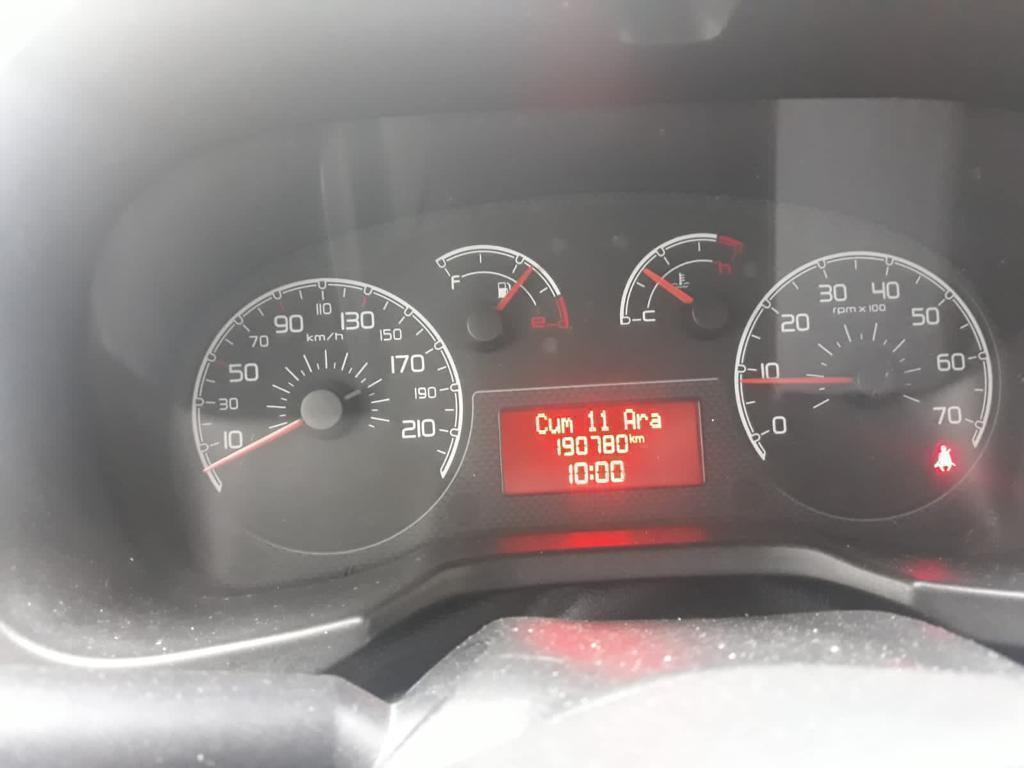0: (609, 459, 625, 482), (573, 461, 588, 485), (594, 460, 609, 483), (574, 435, 589, 455), (616, 433, 628, 454)
1: (586, 408, 598, 433), (599, 408, 611, 432), (553, 436, 561, 457), (566, 462, 573, 485)
7: (590, 435, 602, 455)
8: (602, 434, 615, 455)
9: (561, 435, 574, 457)
X: (535, 412, 548, 434), (623, 408, 635, 429), (635, 412, 648, 429), (561, 416, 573, 434), (548, 416, 560, 434), (649, 412, 661, 429), (635, 435, 645, 444), (628, 432, 635, 444), (589, 464, 593, 480)
odometer: (496, 396, 708, 496)
